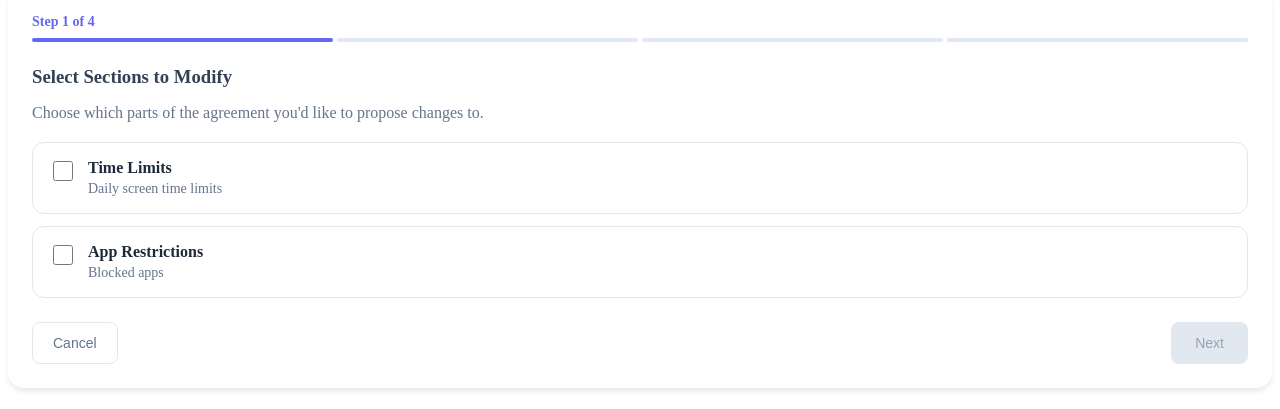
Test case: AgreementProposalWizard - Story 34.1 › edit changes (step 2) › should show editable fields for selected section
Click the checkbox labelled "Time Limits" at (63, 171), box left=53, top=161, right=73, bottom=181
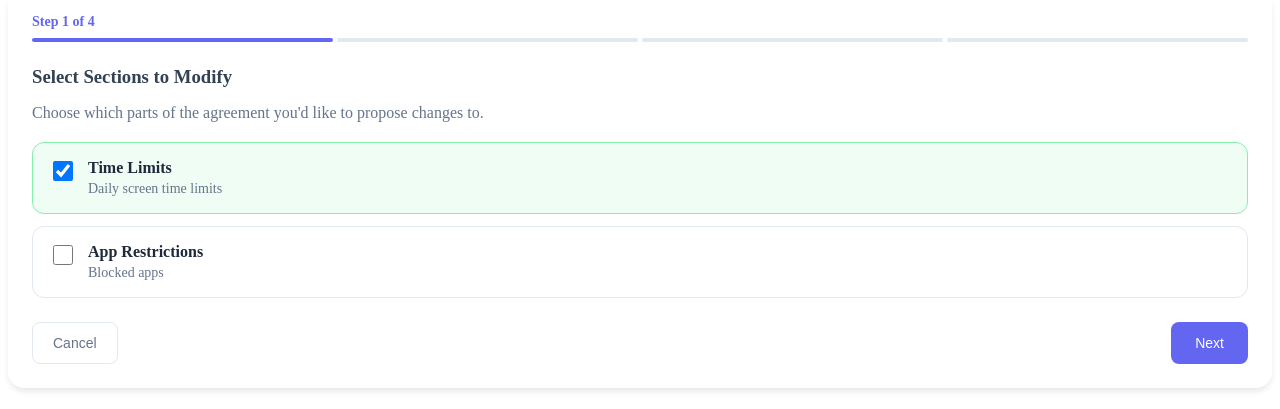
Click the button "Next" at (1210, 343), box left=1171, top=322, right=1248, bottom=364
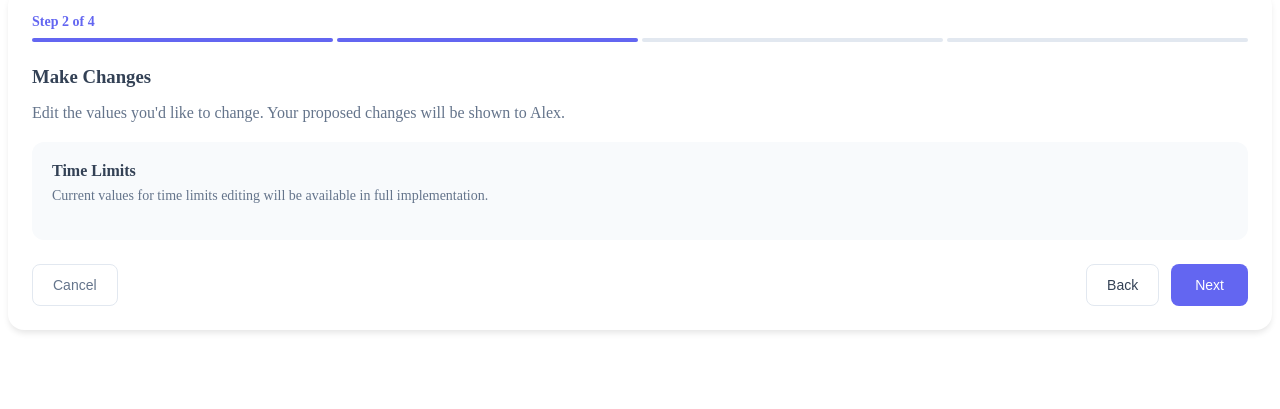
Check: the heading "Make Changes" is shown, box left=32, top=66, right=151, bottom=87
